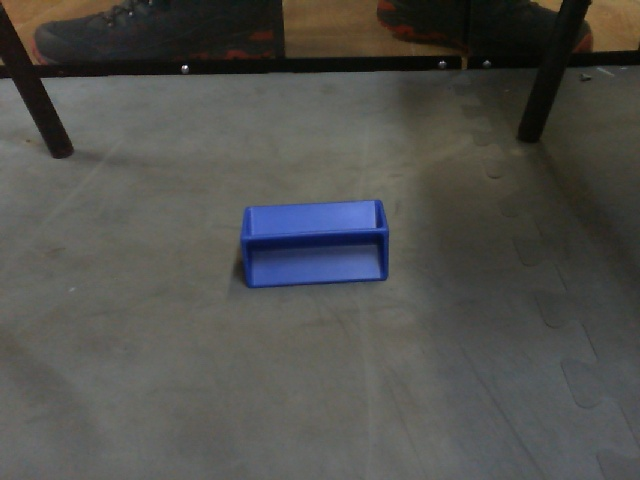BlueSample: (234, 196, 393, 294)
